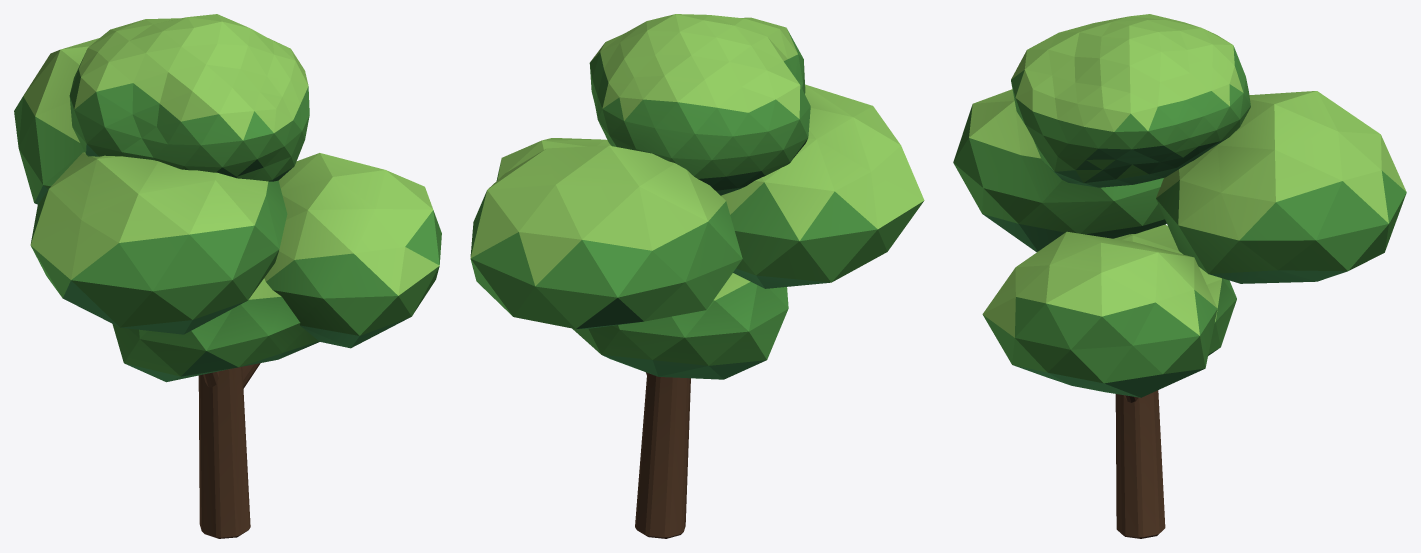
File: tree_broadleaf_b_medium.glb
3 renders of one model, left to right at view 1: azimuth 30°, elevation 25°; view 2: azimuth 150°, elevation 25°; view 3: azimuth 270°, elevation 25°, orthographic. The views are drawn at different scales.
Parts seen in each view (by area): view 1: Canopy, Trunk; view 2: Canopy, Trunk; view 3: Canopy, Trunk.
Boxes of the visible parts, left/top/right/bottom form: Canopy: left=14, top=14, right=441, bottom=382; Trunk: left=198, top=363, right=260, bottom=538; Canopy: left=470, top=14, right=924, bottom=379; Trunk: left=635, top=372, right=690, bottom=538; Canopy: left=953, top=14, right=1406, bottom=397; Trunk: left=1115, top=390, right=1165, bottom=538.
Size of the model in its own units: 6.86 by 8.67 by 7.3.
Materials: 1 (1 with a texture image).
